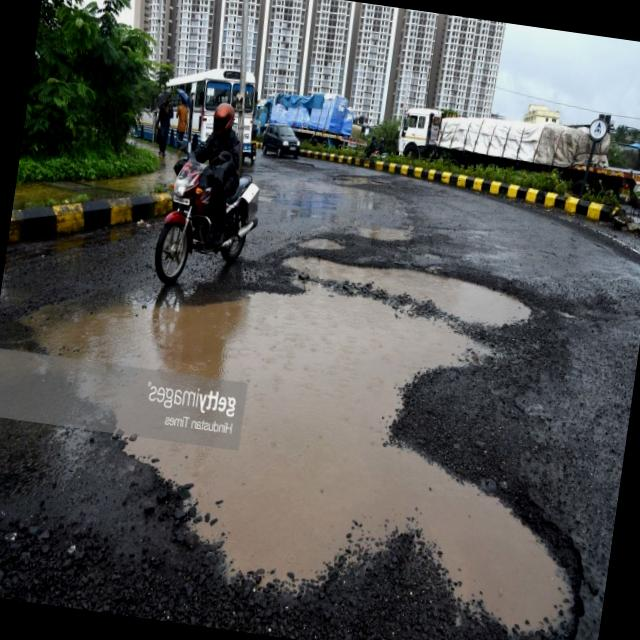bad-road: (0, 214, 630, 640), (346, 216, 412, 248), (298, 229, 348, 255)
